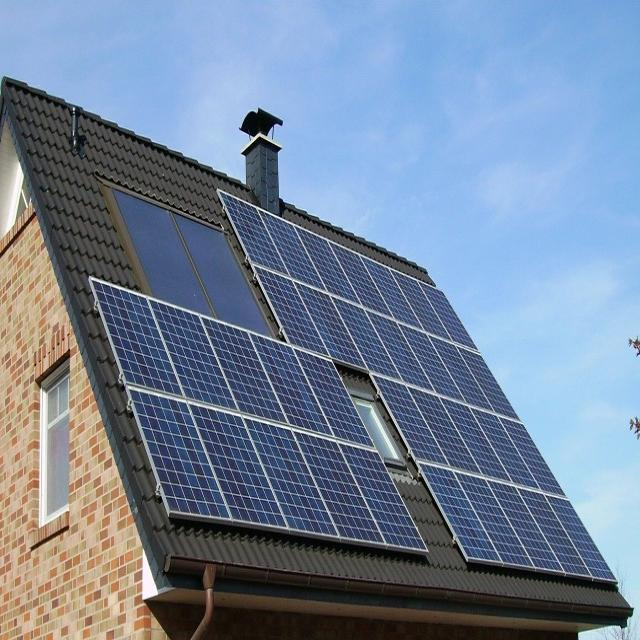clean-solar-panel: (91, 192, 612, 582)
